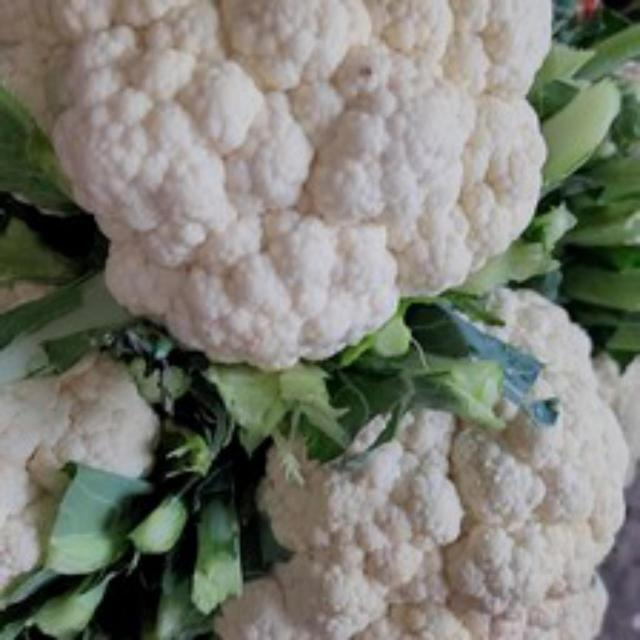cauliflower: (0, 1, 564, 373)
